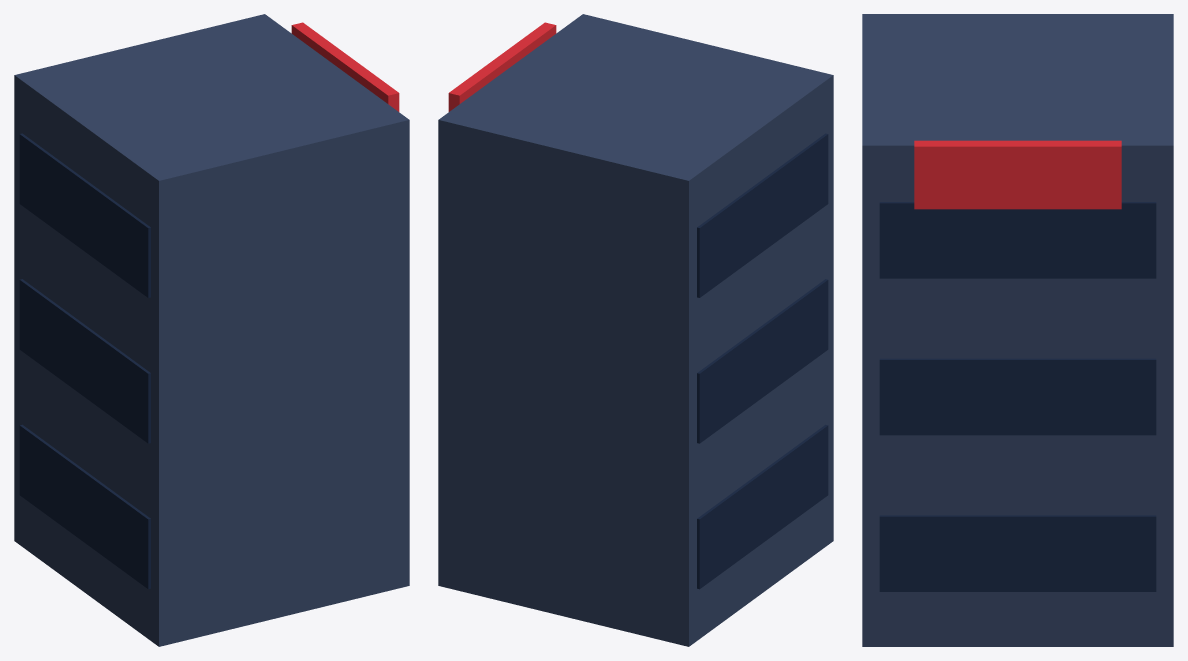
Rendered from prefab_bureau.glb.
The picture shows the model from 3 angles, left to right: view 1: azimuth 30°, elevation 25°; view 2: azimuth 150°, elevation 25°; view 3: azimuth 270°, elevation 25°; orthographic projection. The views are drawn at different scales.
Parts seen in each view (by area): view 1: p_box.4338, p_box.4340, p_box.4339, p_box.4341, p_box.4342; view 2: p_box.4338, p_box.4340, p_box.4339, p_box.4341, p_box.4342; view 3: p_box.4338, p_box.4340, p_box.4339, p_box.4341, p_box.4342.
Boxes of the visible parts, x1,y1,x2,y2 form: p_box.4338: [14, 14, 409, 646]; p_box.4340: [19, 279, 150, 443]; p_box.4339: [19, 424, 150, 589]; p_box.4341: [19, 133, 150, 297]; p_box.4342: [291, 22, 399, 111]; p_box.4338: [438, 14, 833, 646]; p_box.4340: [697, 279, 828, 443]; p_box.4339: [697, 424, 828, 589]; p_box.4341: [697, 133, 828, 297]; p_box.4342: [448, 22, 556, 111]; p_box.4338: [862, 14, 1173, 646]; p_box.4340: [879, 358, 1156, 435]; p_box.4339: [879, 515, 1156, 591]; p_box.4341: [879, 202, 1156, 278]; p_box.4342: [914, 140, 1121, 209].
Bounding box in the file's own units: 1.15 × 1.94 × 1.08.
